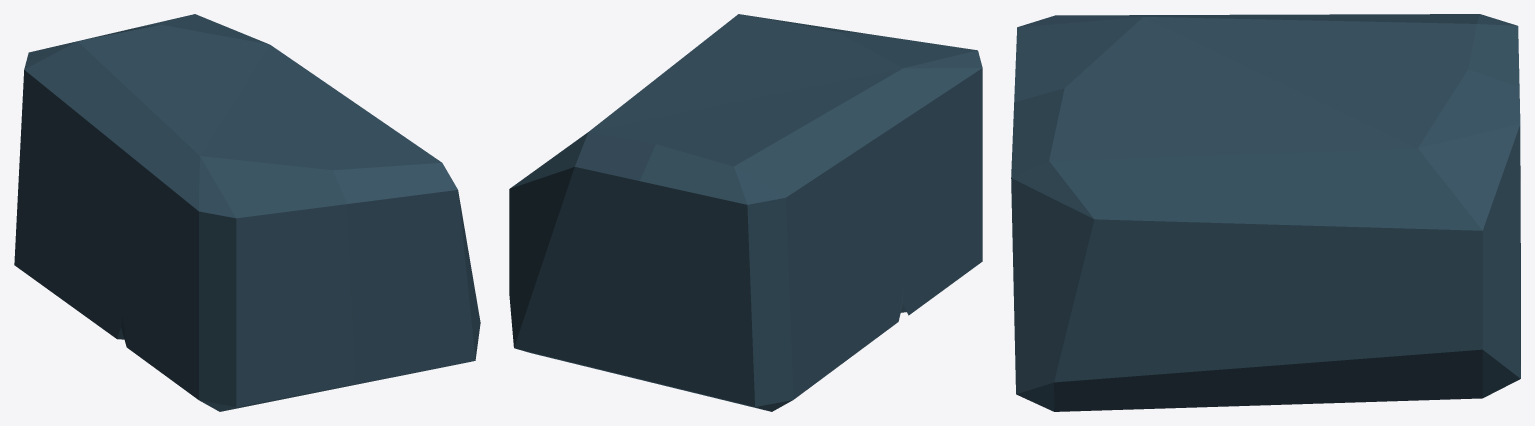
Rendered from small-rock-block.fbx.
The picture shows the model from 3 angles, left to right: view 1: azimuth 30°, elevation 25°; view 2: azimuth 150°, elevation 25°; view 3: azimuth 270°, elevation 25°; orthographic projection. The views are drawn at different scales.
Parts seen in each view (by area): view 1: stone-brick04.006; view 2: stone-brick04.006; view 3: stone-brick04.006.
Part boxes in pixels (left/top/right/bottom): stone-brick04.006: left=14, top=14, right=480, bottom=411; stone-brick04.006: left=509, top=14, right=982, bottom=411; stone-brick04.006: left=1011, top=14, right=1520, bottom=411.
Size of the model in its own units: 147 by 119 by 199.
